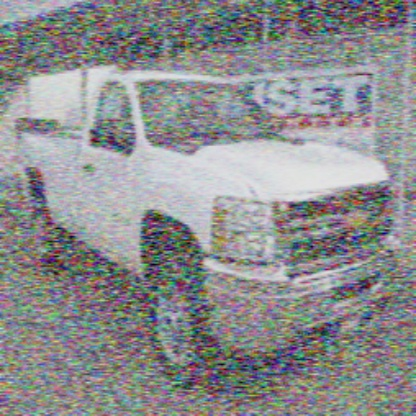Vehicle: (16, 73, 405, 388)
